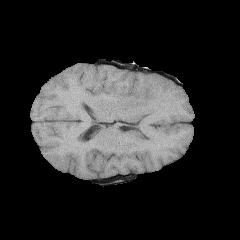glioma: (114, 72, 170, 121)
